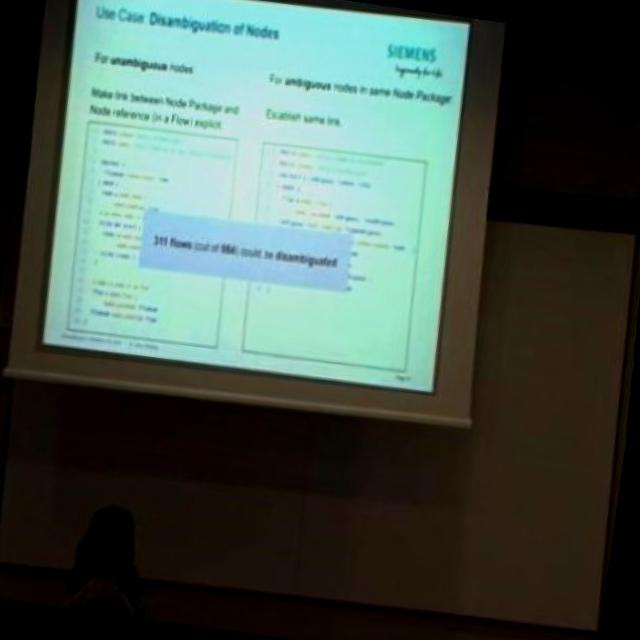Slide: (43, 0, 467, 400)
White-board: (3, 182, 631, 627)
